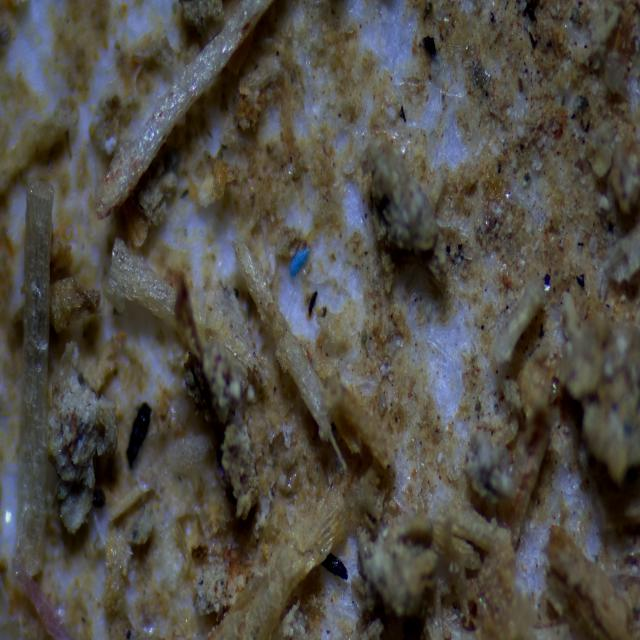microplastic: (283, 243, 314, 281)
